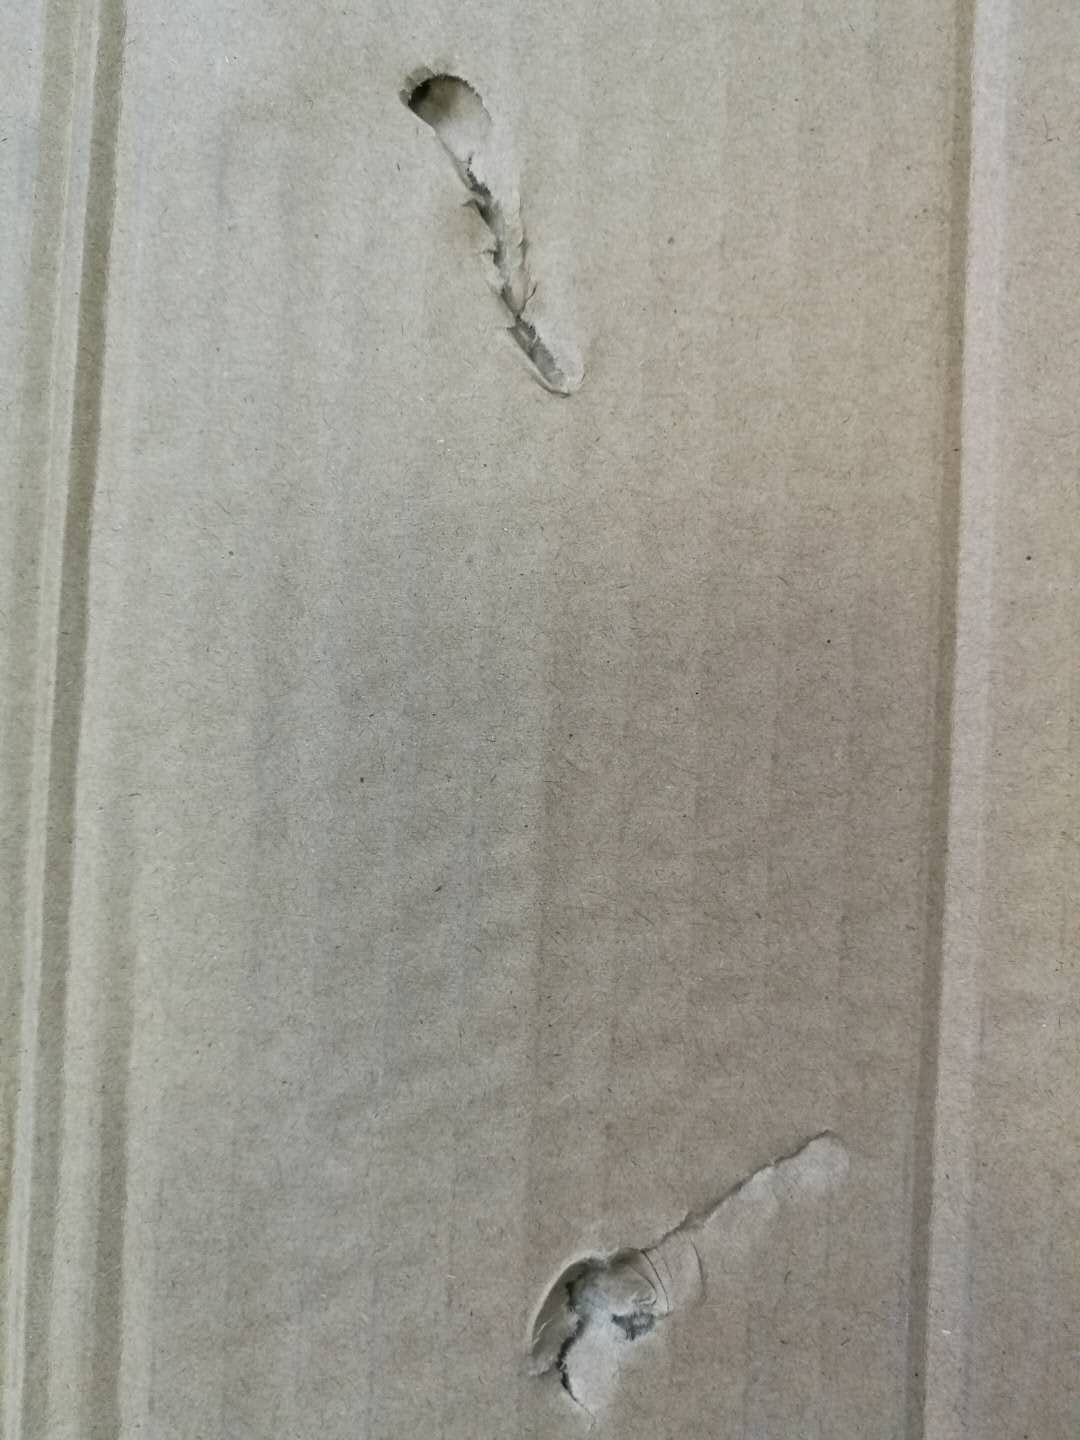defect: (1, 1, 225, 1438), (863, 1, 1028, 1440), (492, 1092, 883, 1433), (383, 41, 619, 424)
